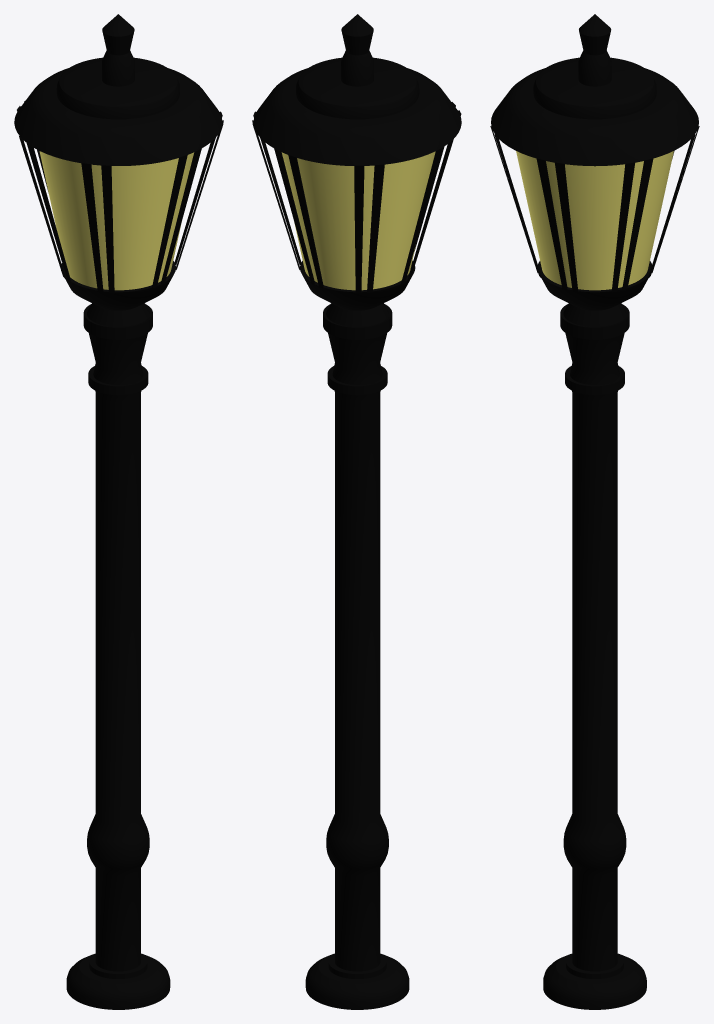
The model's file is street_lights2.fbx.
3 views of the same model, side by side, from view 1: azimuth 30°, elevation 25°; view 2: azimuth 150°, elevation 25°; view 3: azimuth 270°, elevation 25° (orthographic).
Visible parts, largest first — view 1: Street_Lamp.001; view 2: Street_Lamp.001; view 3: Street_Lamp.001.
Part boxes in pixels (x1,y1,x2,y2): Street_Lamp.001: [14, 14, 223, 1009]; Street_Lamp.001: [252, 14, 461, 1009]; Street_Lamp.001: [490, 14, 699, 1009].
Bounding box in the file's own units: 87.24 × 448 × 87.33.
